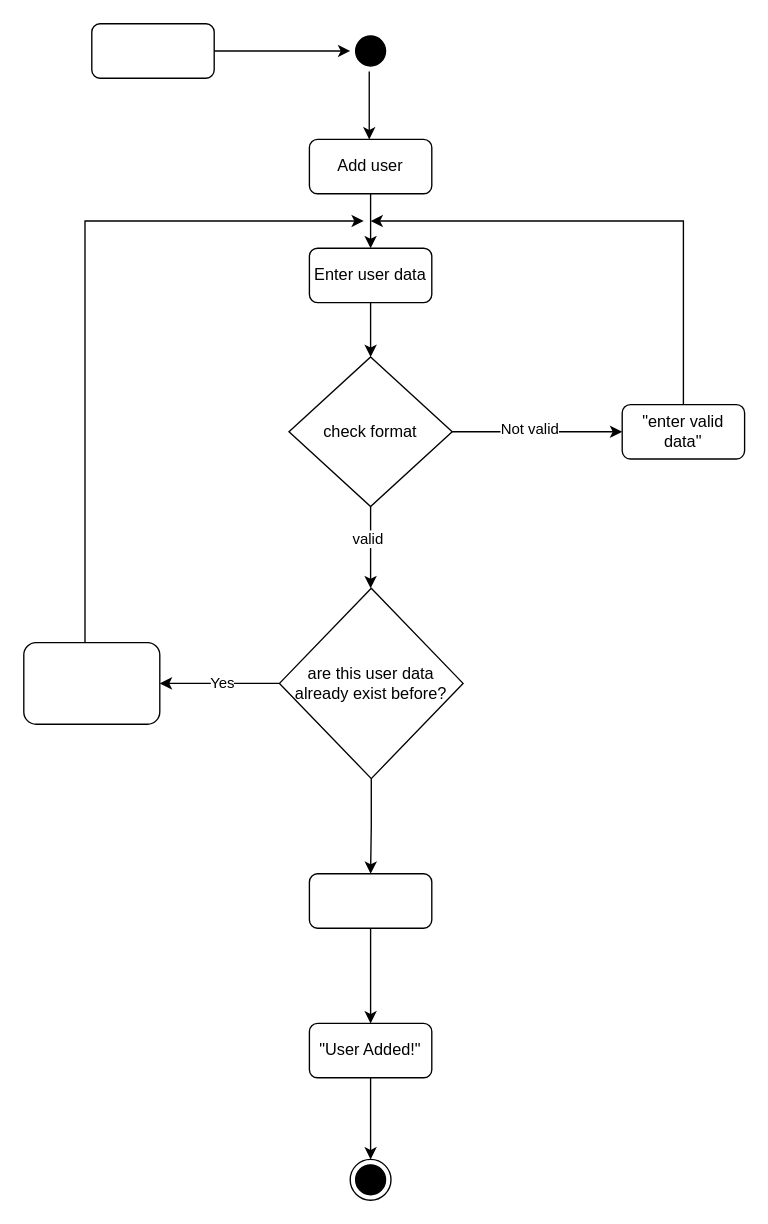
Some shapes in this 768 by 1224 pixel diagram are drawn without their labels. The shapes that lost their labels are listed below. From the top down, each one's box as (x1, y1, x2, y2) in pixels, then its label:
(90, 22, 214, 78): manager user
(22, 641, 160, 724): "User already exists"
(308, 872, 432, 928): save data
